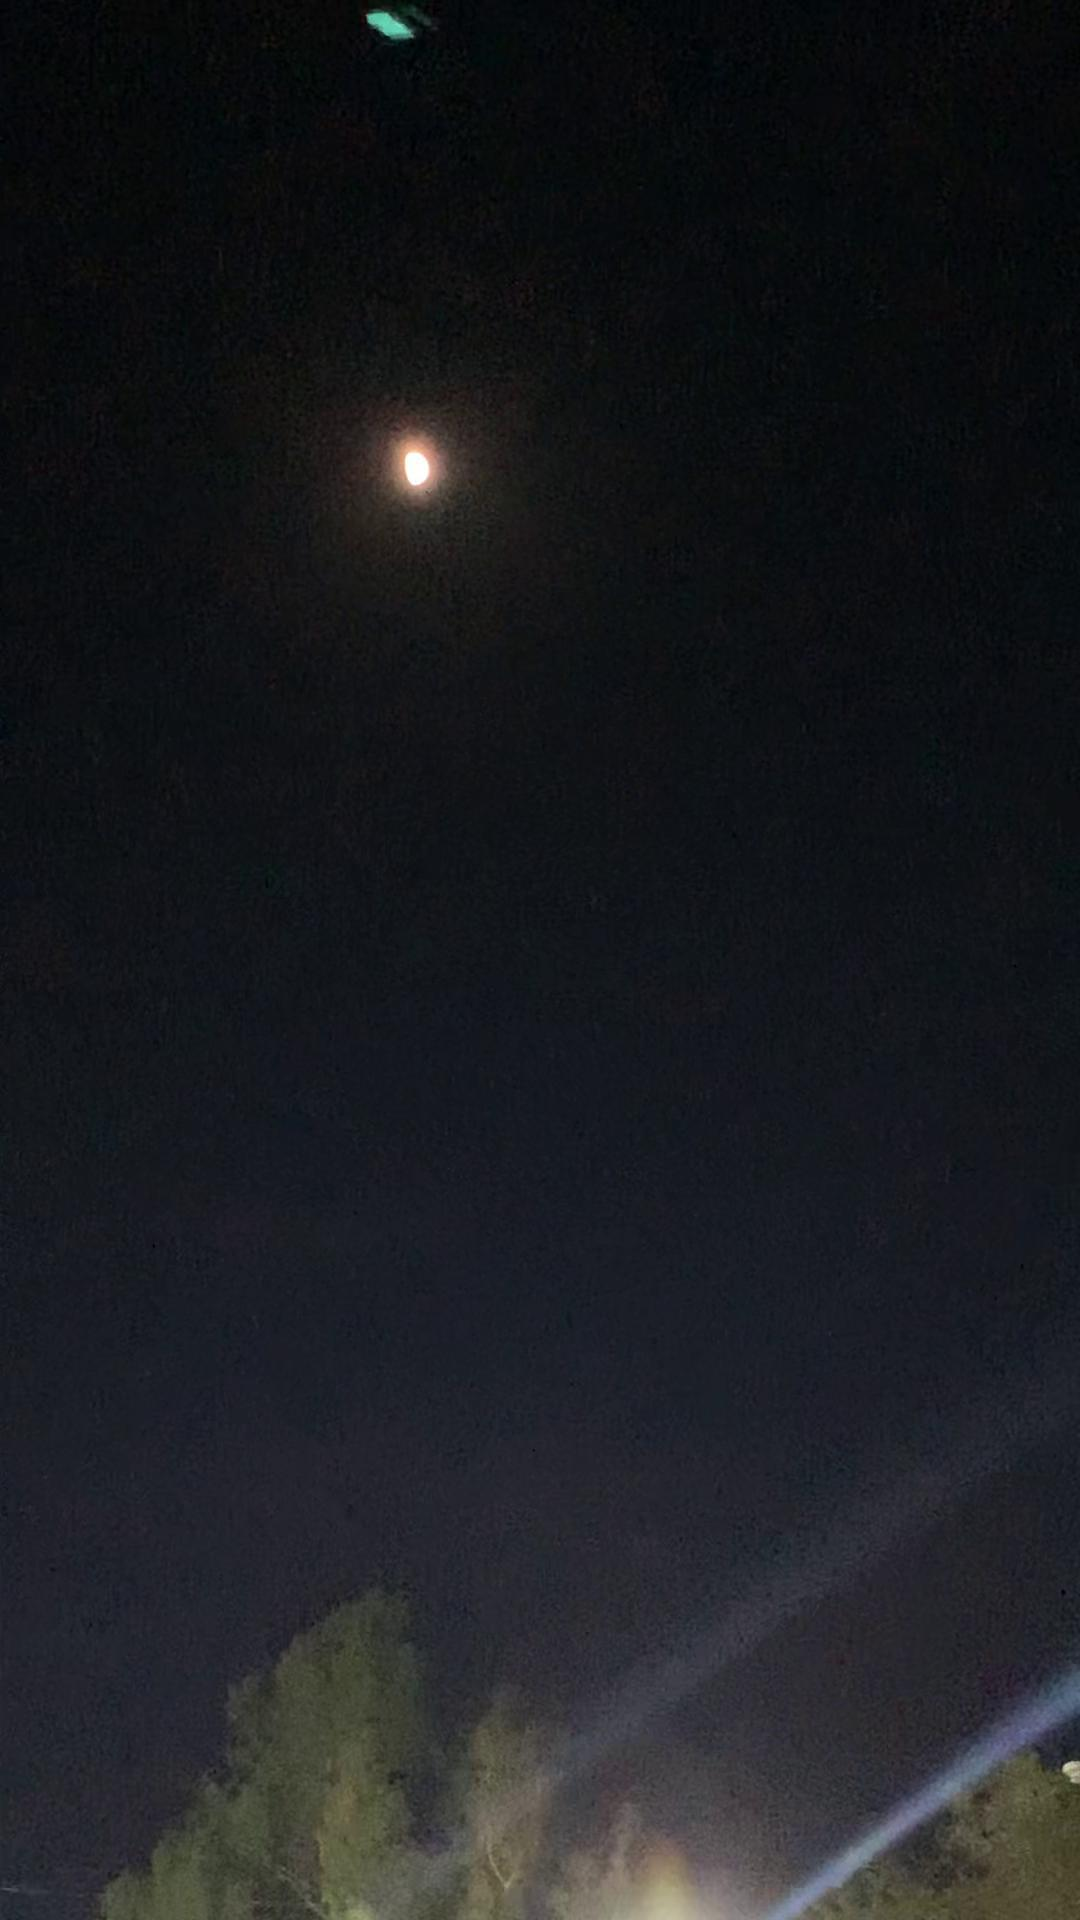moon: (381, 434, 458, 513)
